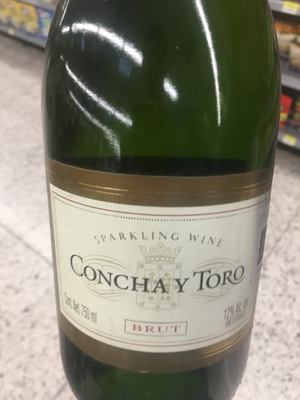brut: (41, 17, 279, 400)
